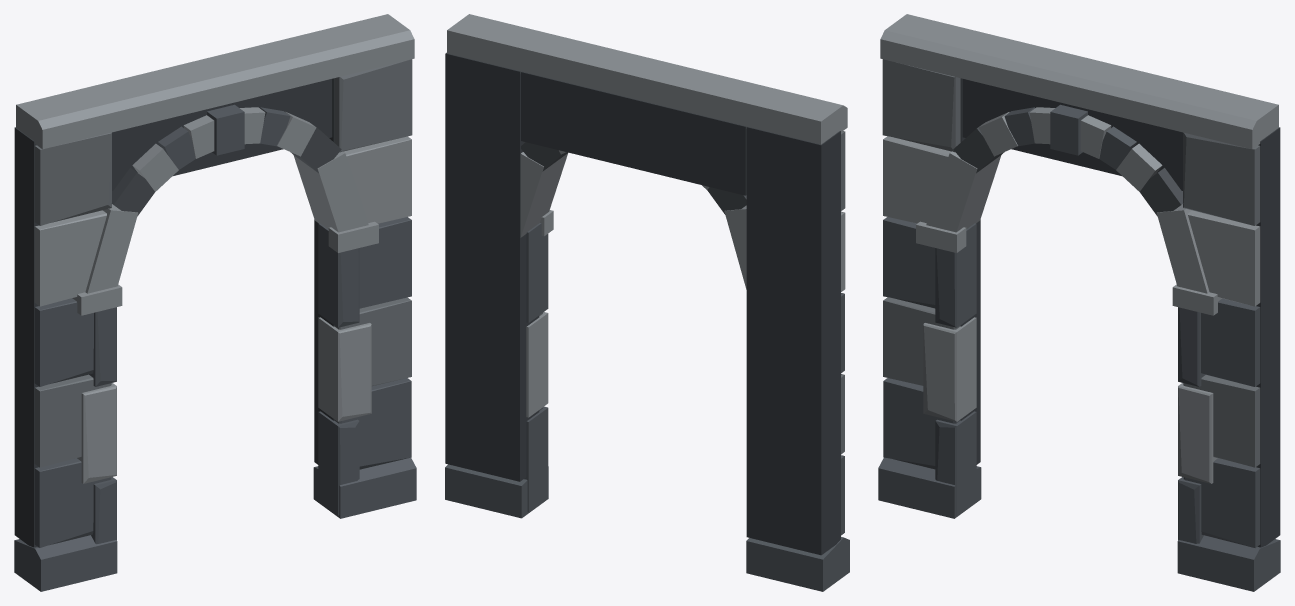
Rendered from mdvl_dungeon_arch_01.glb.
The picture shows the model from 3 angles, left to right: view 1: azimuth 30°, elevation 25°; view 2: azimuth 150°, elevation 25°; view 3: azimuth 330°, elevation 25°; orthographic projection.
Visible parts, largest first — view 1: mdvl_dungeon_arch_01; view 2: mdvl_dungeon_arch_01; view 3: mdvl_dungeon_arch_01.
Part boxes in pixels (x1,y1,x2,y2): mdvl_dungeon_arch_01: (14,14,416,591); mdvl_dungeon_arch_01: (445,14,849,591); mdvl_dungeon_arch_01: (878,14,1280,591).
Bounding box in the file's own units: 2.02 × 2.4 × 0.272.
1 material, 1 textured.
